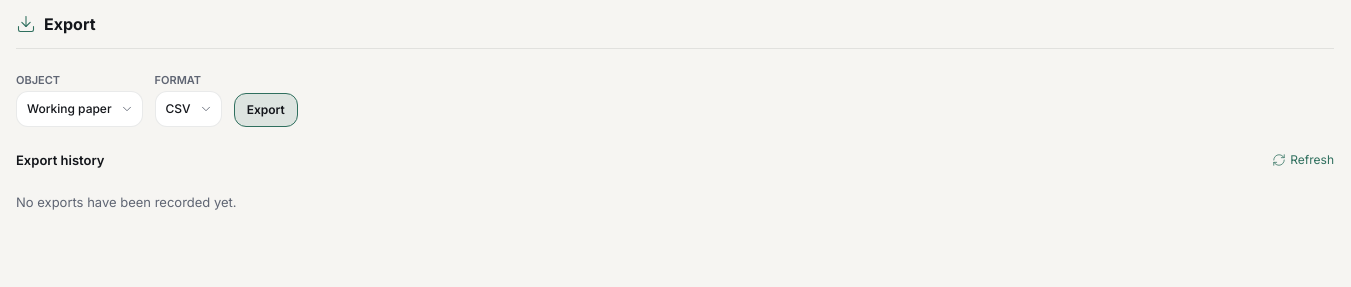
Test: Phase 7 UI panels (7G) › ExportPanel › reports an inline error when the object needs an id it does not have
The width and height of the screenshot is (1351, 287).
Expected: the text "No exports have been recorded yet." is shown, [16,194,237,210]
Click the button with test id "export-run" at (266, 110), box [234,93,298,127]
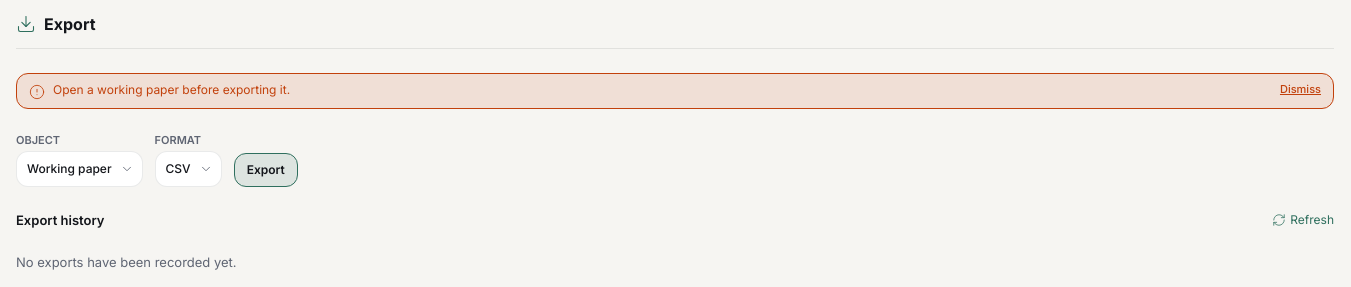
Expected: the message "Open a working paper before exporting it. Dismiss" is shown, [16,73,1334,109]
